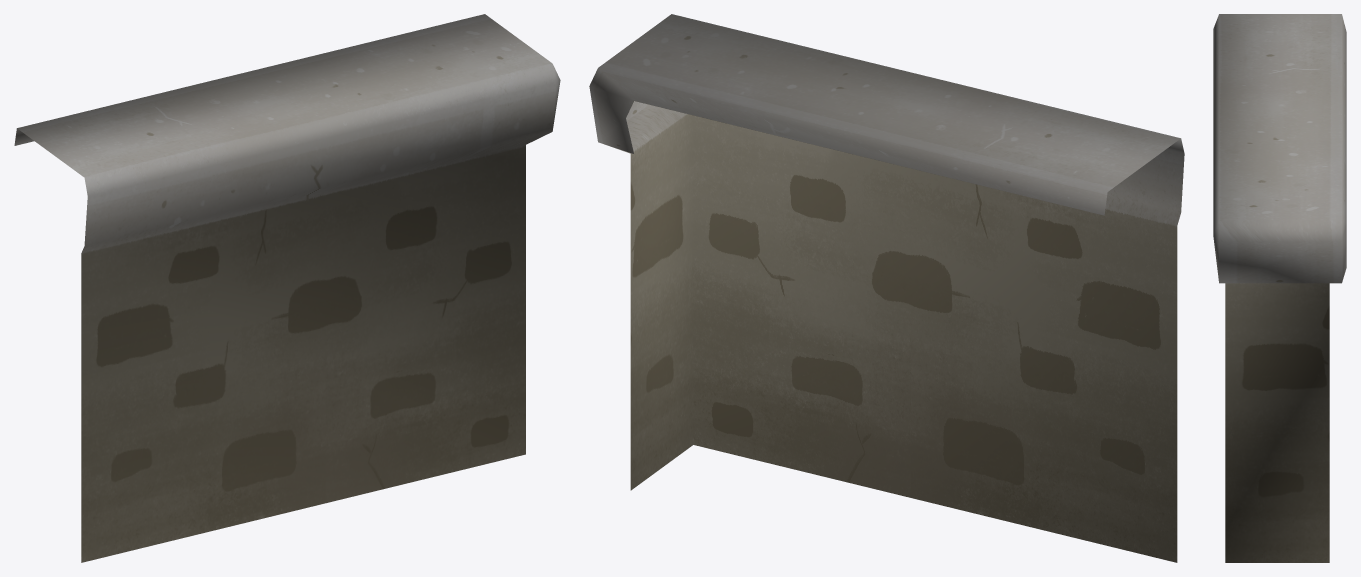
Rendered from Gracht_V2_Hoek2.fbx.
3 renders of one model, left to right at view 1: azimuth 30°, elevation 25°; view 2: azimuth 150°, elevation 25°; view 3: azimuth 270°, elevation 25°, orthographic. The views are drawn at different scales.
Visible parts, largest first — view 1: Plane.023; view 2: Plane.023; view 3: Plane.023.
Part boxes in pixels (x1,y1,x2,y2): Plane.023: (14,14,560,562); Plane.023: (589,14,1184,562); Plane.023: (1213,14,1346,562).
Bounding box in the file's own units: 1094 × 852 × 292.
